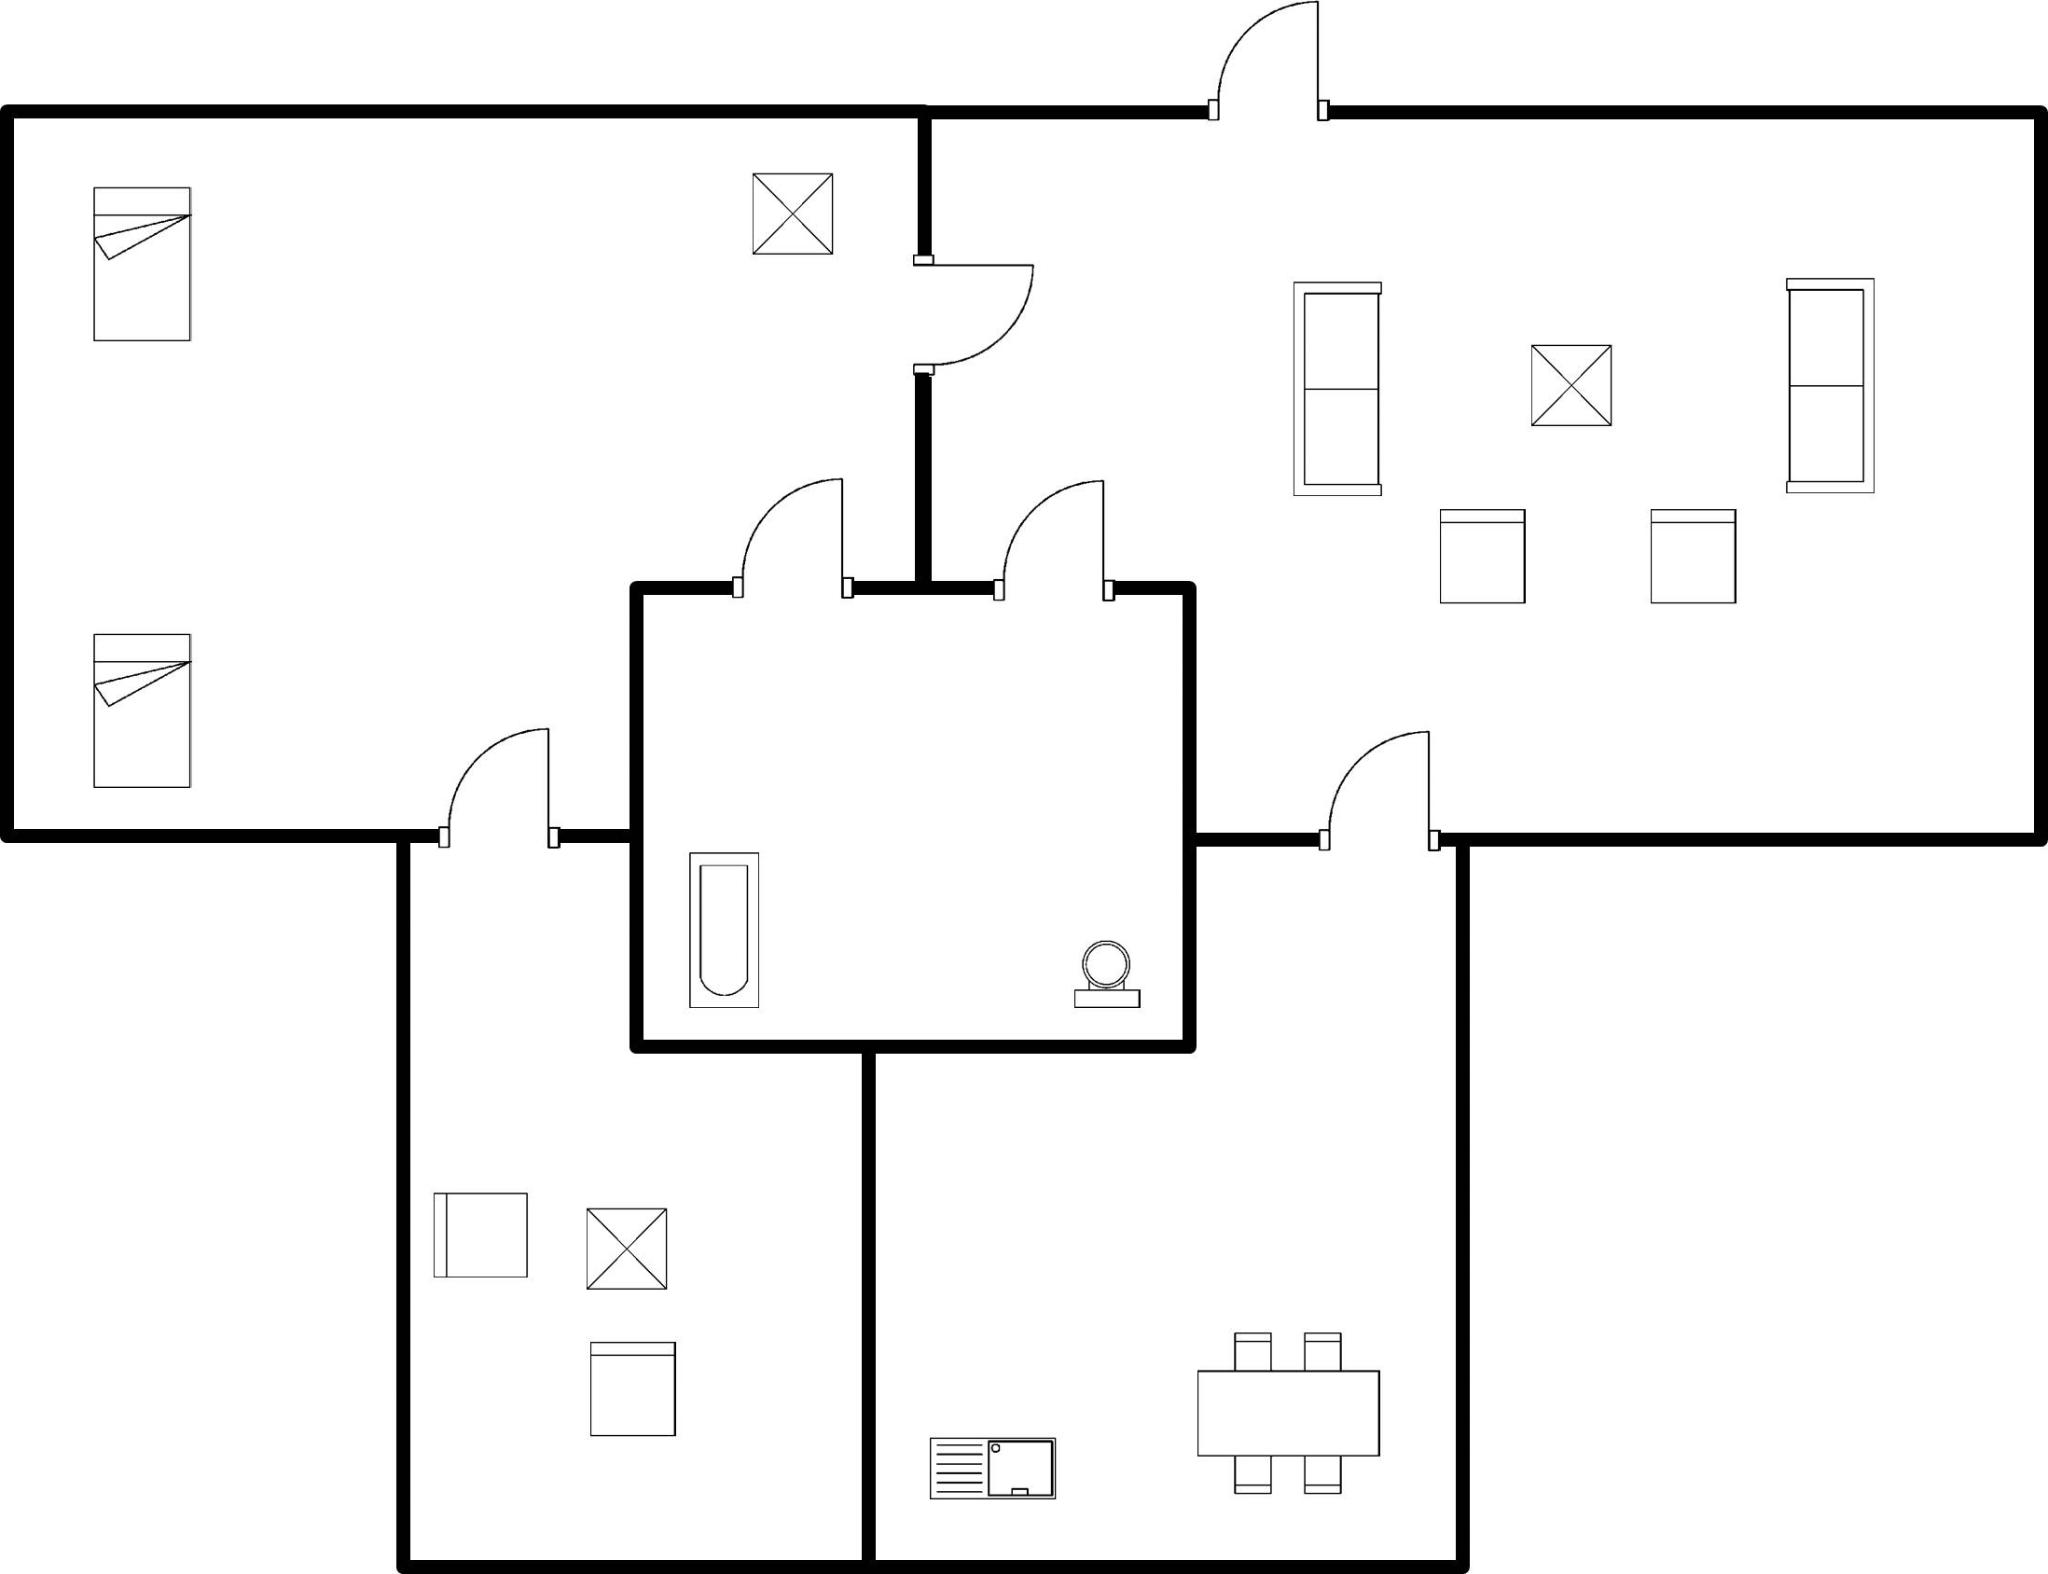bed: (76, 175, 208, 355), (83, 623, 205, 800)
dining_table: (1180, 1321, 1393, 1513)
sink: (916, 1427, 1073, 1513)
sofa: (1286, 269, 1398, 504), (1779, 268, 1889, 506)
toilet: (1066, 929, 1159, 1020)
tub: (678, 838, 774, 1017)
